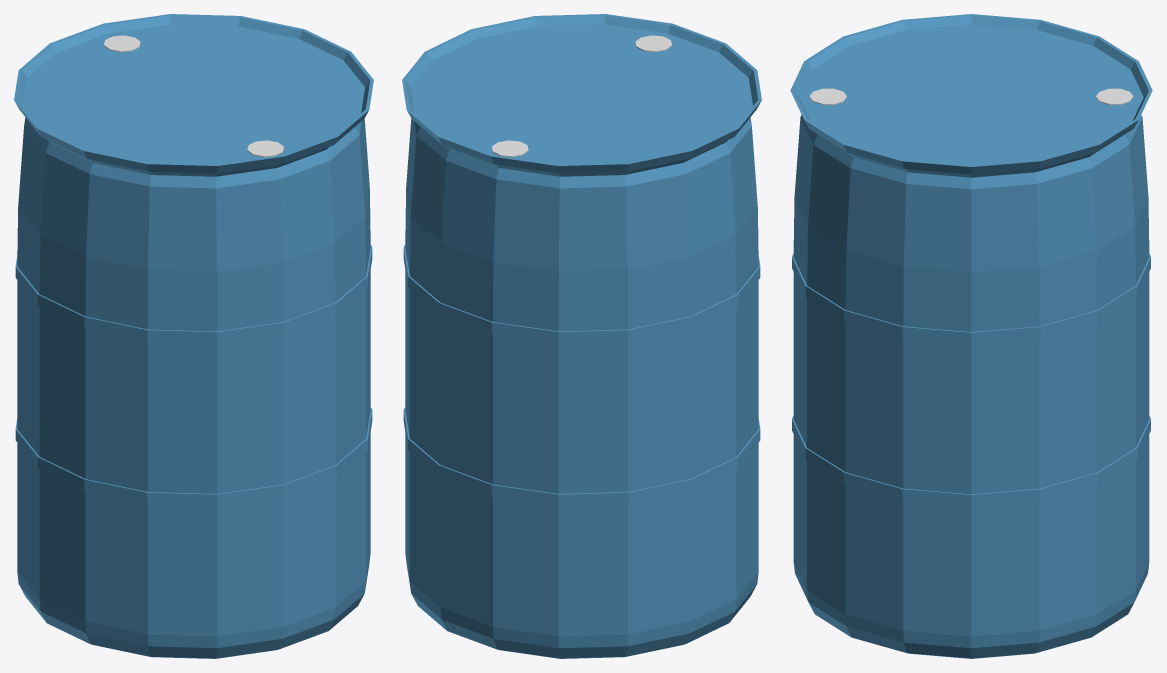
Rendered from Drum-55-Gallon-Plastic-1-Blue.fbx.
The picture shows the model from 3 angles, left to right: view 1: azimuth 30°, elevation 25°; view 2: azimuth 150°, elevation 25°; view 3: azimuth 270°, elevation 25°; orthographic projection.
Parts seen in each view (by area): view 1: Drum55GallonPlastic1Blue; view 2: Drum55GallonPlastic1Blue; view 3: Drum55GallonPlastic1Blue.
Part boxes in pixels (x1,y1,x2,y2): Drum55GallonPlastic1Blue: (14,14,373,658); Drum55GallonPlastic1Blue: (402,14,761,658); Drum55GallonPlastic1Blue: (790,14,1152,658).
Size of the model in its own units: 0.582 by 0.8846 by 0.582.
